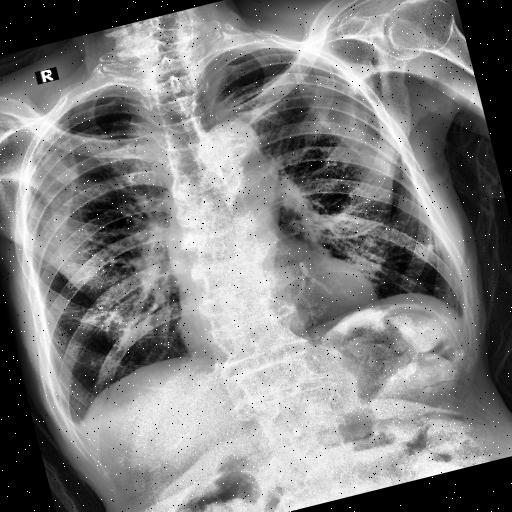0- Aortic enlargement: (200, 112, 277, 198), (200, 115, 274, 200), (206, 113, 258, 162)
10- Pleural effusion: (65, 414, 91, 447), (66, 414, 91, 443), (68, 421, 86, 437)
11- Pleural thickening: (65, 414, 91, 447), (66, 414, 91, 443), (68, 421, 86, 437)
